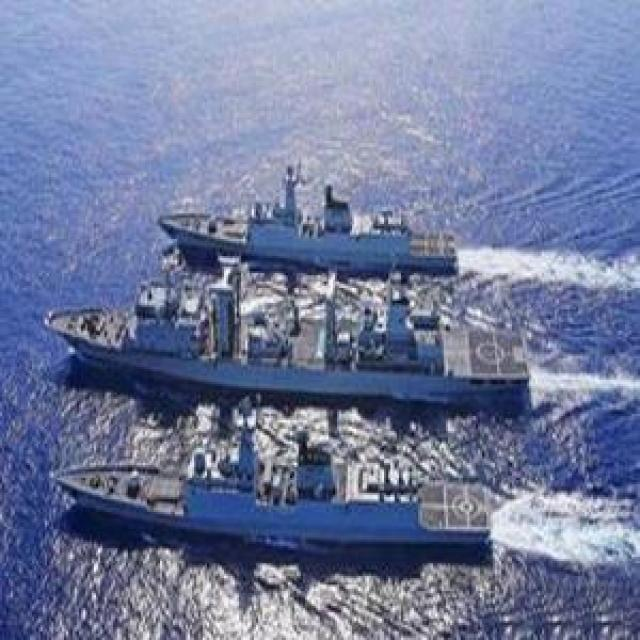navalvessels: (52, 405, 501, 563), (47, 265, 534, 393), (155, 162, 458, 270)
